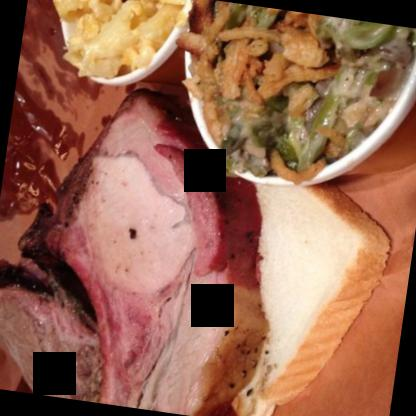beef: (9, 70, 292, 415)
